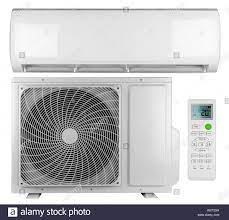ac: (5, 3, 229, 75)
